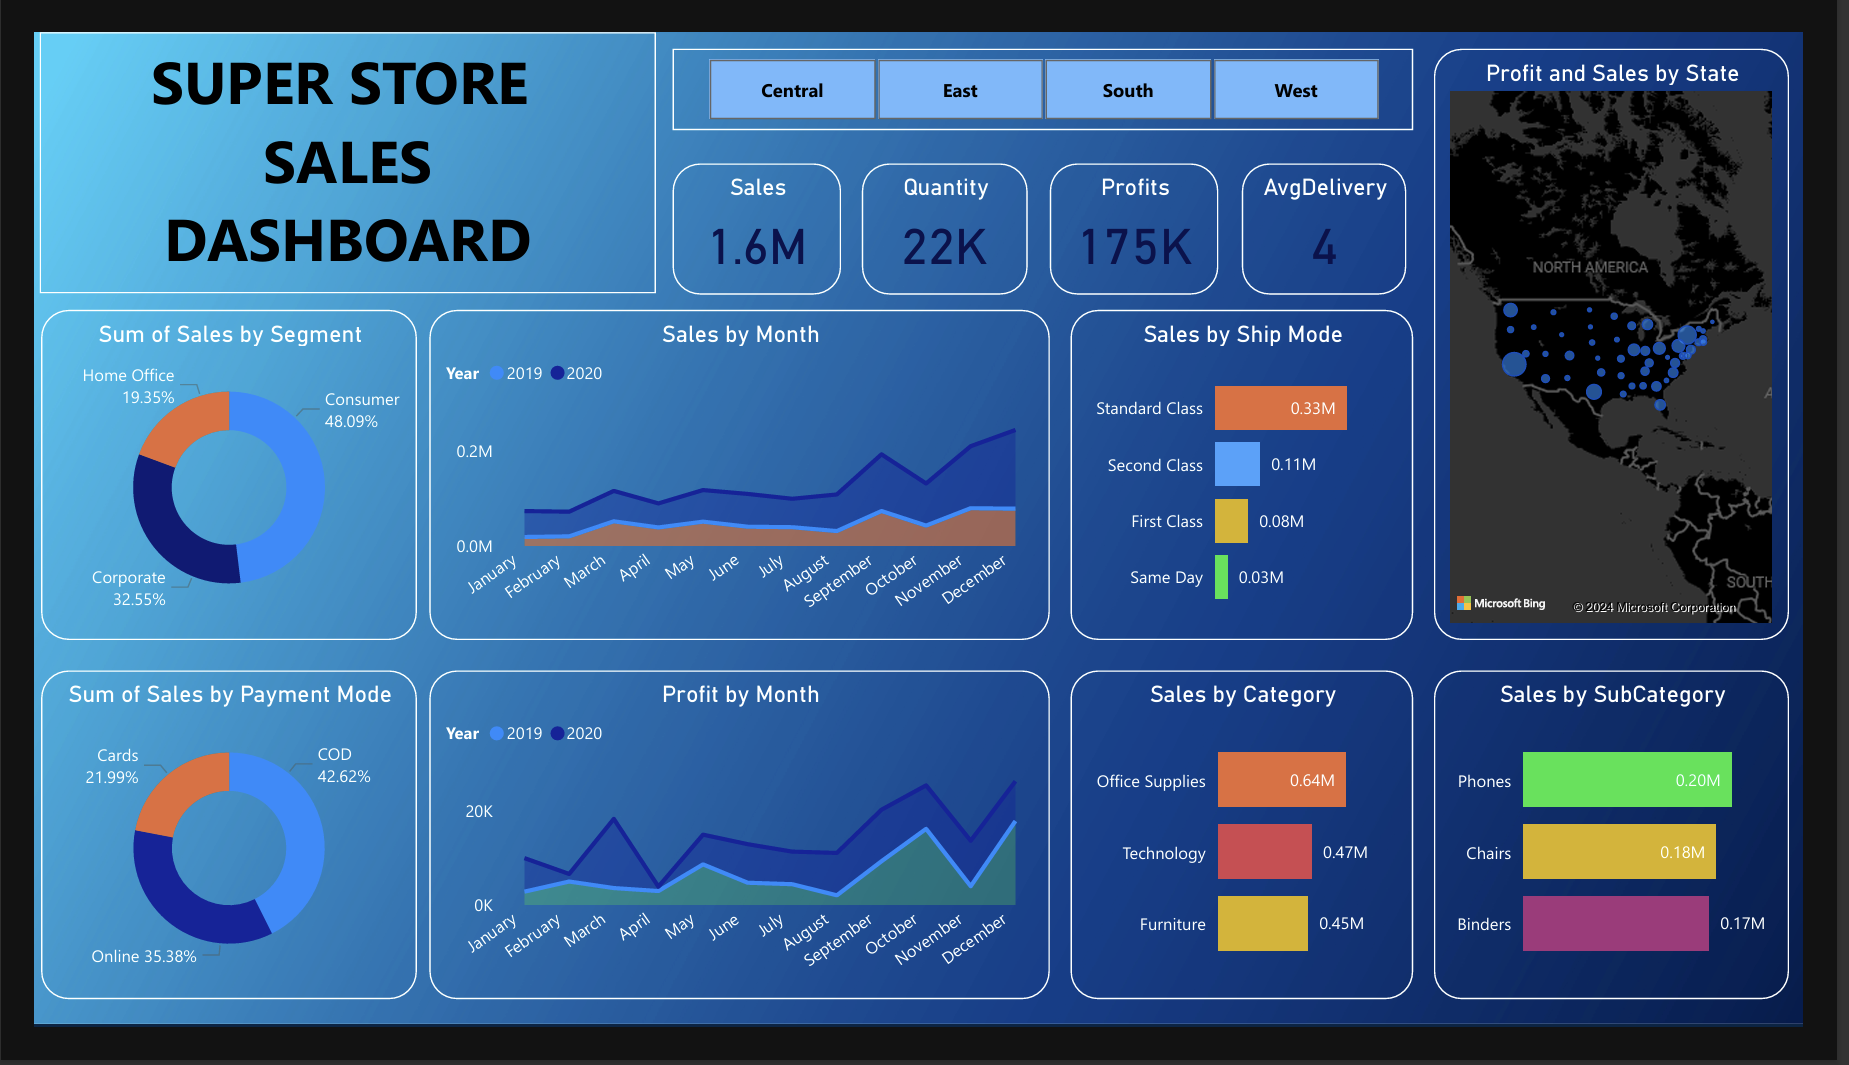

Layout of this report page (visuals, bound fields, positions):
{"tool":"powerbi","page":{"name":"Page 1","canvas":[1280,720],"ordinal":0},"visuals":[{"type":"clusteredBarChart","title":"Sales by Category","fields":{"Category":["SuperStore_Sales_Dataset.Category"],"Y":["Sum(SuperStore_Sales_Dataset.Sales)"]},"box":[750,461.6,247.7,238.4],"z":0},{"type":"clusteredBarChart","title":"Sales by SubCategory","fields":{"Y":["Sum(SuperStore_Sales_Dataset.Sales)"],"Category":["SuperStore_Sales_Dataset.Sub-Category"]},"box":[1012.8,461.6,257,238.4],"z":1000},{"type":"clusteredBarChart","title":"Sales by Ship Mode","fields":{"Y":["Sum(SuperStore_Sales_Dataset.Sales)"],"Category":["SuperStore_Sales_Dataset.Ship Mode"]},"box":[750,201.2,247.7,238.4],"z":2000},{"type":"stackedAreaChart","title":"Sales by Month","fields":{"Y":["Sum(SuperStore_Sales_Dataset.Sales)"],"Category":["SuperStore_Sales_Dataset.Order Date.Variation.Date Hierarchy.Month"],"Series":["SuperStore_Sales_Dataset.Order Date.Variation.Date Hierarchy.Year"]},"box":[286,201.2,448.8,238.4],"z":3000},{"type":"stackedAreaChart","title":" Profit by Month","fields":{"Category":["SuperStore_Sales_Dataset.Order Date.Variation.Date Hierarchy.Month"],"Series":["SuperStore_Sales_Dataset.Order Date.Variation.Date Hierarchy.Year"],"Y":["Sum(SuperStore_Sales_Dataset.Profit)"]},"box":[286,461.6,448.8,238.4],"z":4000},{"type":"map","title":"Profit and Sales by State","fields":{"Category":["SuperStore_Sales_Dataset.State"],"Size":["Sum(SuperStore_Sales_Dataset.Sales)"]},"box":[1012.8,11.6,257,427.9],"z":5000},{"type":"donutChart","fields":{"Y":["Sum(SuperStore_Sales_Dataset.Sales)"],"Category":["SuperStore_Sales_Dataset.Segment"]},"box":[4.7,201.2,272.1,238.4],"z":6000},{"type":"donutChart","fields":{"Y":["Sum(SuperStore_Sales_Dataset.Sales)"],"Category":["SuperStore_Sales_Dataset.Payment Mode"]},"box":[4.7,461.6,272.1,238.4],"z":7000},{"type":"slicer","fields":{"Values":["SuperStore_Sales_Dataset.Region"]},"box":[461.6,11.6,536,59.3],"z":8000},{"type":"textbox","box":[4.1,0,446,189.4],"z":9000},{"type":"card","title":"Sales","fields":{"Values":["Sum(SuperStore_Sales_Dataset.Sales)"]},"box":[461.6,95.3,122.1,94.2],"z":10000},{"type":"card","title":"Quantity","fields":{"Values":["Sum(SuperStore_Sales_Dataset.Quantity)"]},"box":[598.8,95.3,119.8,94.2],"z":11000},{"type":"card","title":"Profits","fields":{"Values":["Sum(SuperStore_Sales_Dataset.Profit)"]},"box":[734.9,95.3,122.1,94.2],"z":12000},{"type":"card","title":"AvgDelivery","fields":{"Values":["Avg(SuperStore_Sales_Dataset.AvgDelivery)"]},"box":[874.4,95.3,118.6,94.2],"z":13000}]}

Visuals, with their boxes in screenshot pixels (x1, y1, x2, y2), scaled from the page's 1280x720 canvas onto the 1849x1065 screenshot:
"Sales by Category" clusteredBarChart: region(1083, 683, 1441, 1035)
"Sales by SubCategory" clusteredBarChart: region(1463, 683, 1834, 1035)
"Sales by Ship Mode" clusteredBarChart: region(1083, 298, 1441, 650)
"Sales by Month" stackedAreaChart: region(413, 298, 1061, 650)
" Profit by Month" stackedAreaChart: region(413, 683, 1061, 1035)
"Profit and Sales by State" map: region(1463, 17, 1834, 650)
donutChart - Sum(SuperStore_Sales_Dataset.Sales) x SuperStore_Sales_Dataset.Segment: region(7, 298, 400, 650)
donutChart - Sum(SuperStore_Sales_Dataset.Sales) x SuperStore_Sales_Dataset.Payment Mode: region(7, 683, 400, 1035)
slicer - SuperStore_Sales_Dataset.Region: region(667, 17, 1441, 105)
textbox: region(6, 0, 650, 280)
"Sales" card: region(667, 141, 843, 280)
"Quantity" card: region(865, 141, 1038, 280)
"Profits" card: region(1062, 141, 1238, 280)
"AvgDelivery" card: region(1263, 141, 1434, 280)
